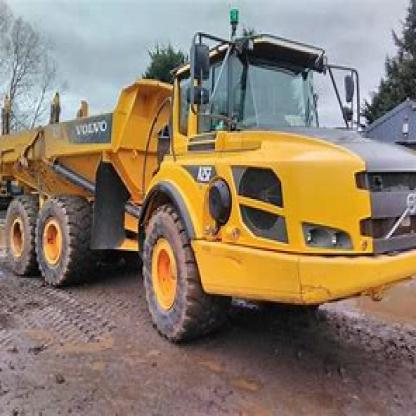dump_truck: (7, 23, 415, 355)
